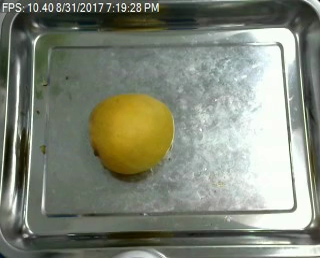Mango: (89, 92, 177, 174)
